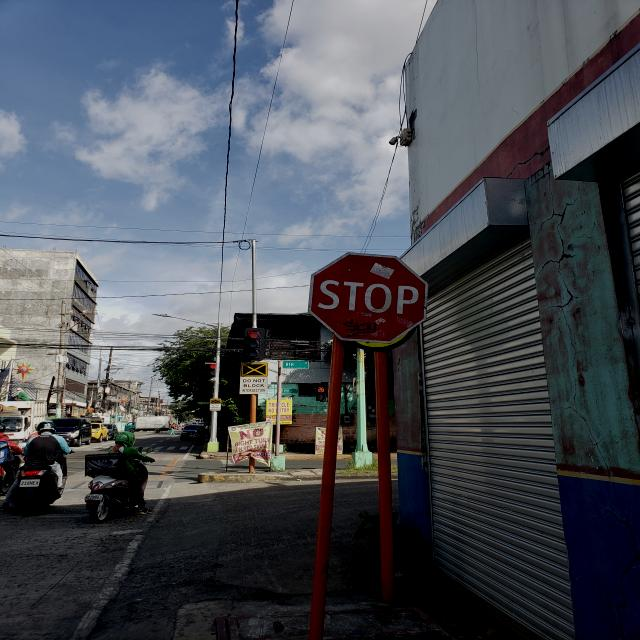stop-sign: (308, 252, 430, 344)
